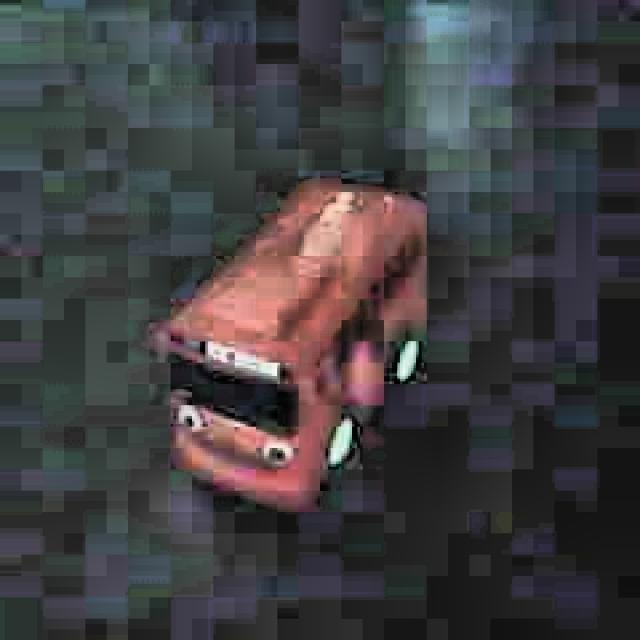bus: (141, 166, 440, 525)
